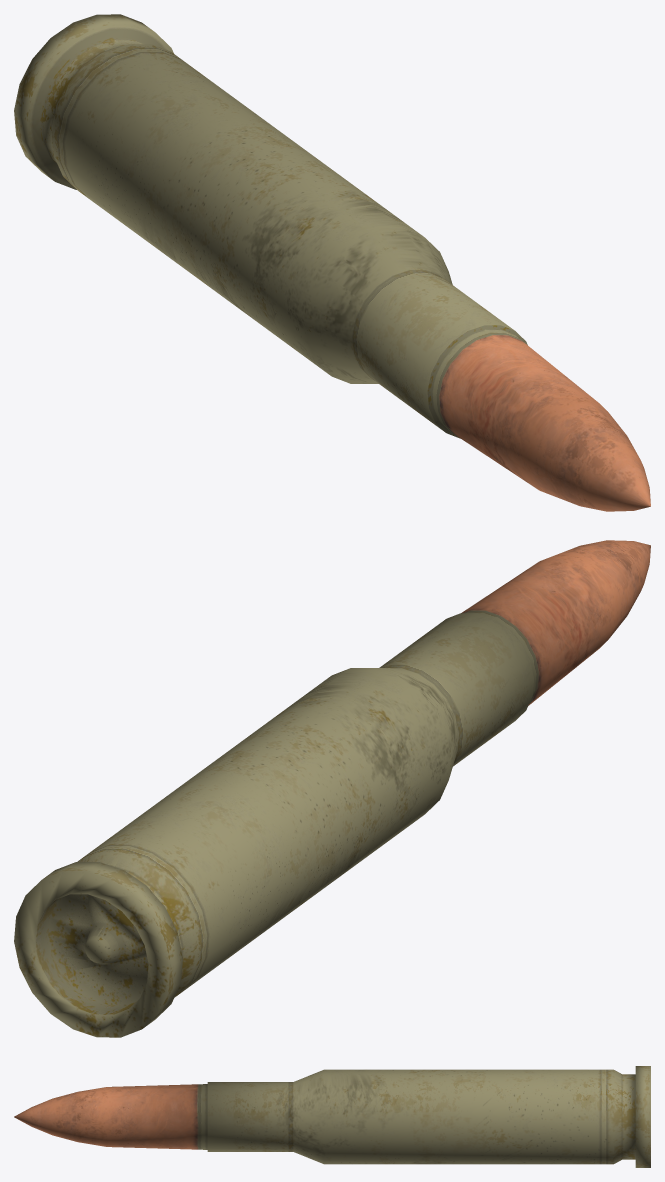
The model's file is bullet.obj.
3 views of the same model, one above another, from view 1: azimuth 30°, elevation 25°; view 2: azimuth 150°, elevation 25°; view 3: azimuth 270°, elevation 25° (orthographic). The views are drawn at different scales.
Visible parts, largest first — view 1: Mesh_0; view 2: Mesh_0; view 3: Mesh_0.
Part boxes in pixels (x1,y1,x2,y2): Mesh_0: (14,14,650,511); Mesh_0: (14,540,650,1037); Mesh_0: (14,1066,650,1167).
Size of the model in its own units: 0.0512 by 0.0512 by 0.3183.
Materials: 1 (1 with a texture image).
